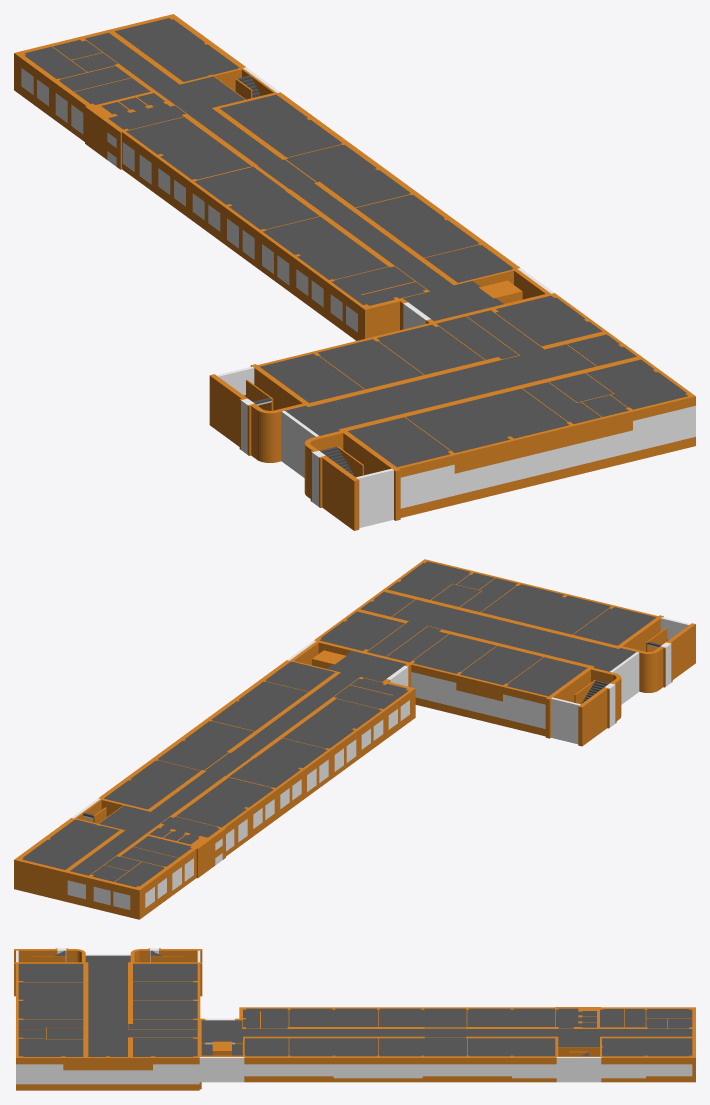
3 views of the same model, one above another, from view 1: azimuth 30°, elevation 25°; view 2: azimuth 150°, elevation 25°; view 3: azimuth 270°, elevation 25° (orthographic). The views are drawn at different scales.
Parts seen in each view (by area): view 1: 3.118, 2.2069, 2.1842, 0.146, 1.1177, 2.1845, 1.1180, 2.1844, 1.1165, 2.1782, 2.1718, 2.1831 (+8 smaller); view 2: 3.118, 2.2069, 2.1818, 2.1844, 0.146, 1.1179, 2.1843, 1.1211, 2.1842, 1.1163, 2.1831, 2.1722 (+4 smaller); view 3: 3.118, 2.2069, 1.1184, 1.1189, 1.1186, 1.1164, 0.146, 1.1191, 1.1185, 1.1187, 1.1188, 1.1192 (+37 smaller).
Part boxes in pixels (x1,y1,x2,y2): 3.118: (25, 18, 513, 305); 2.2069: (260, 295, 687, 467); 2.1842: (319, 455, 359, 530); 0.146: (403, 281, 503, 320); 1.1177: (633, 406, 692, 451); 2.1845: (247, 403, 287, 462); 1.1180: (356, 468, 393, 527); 2.1844: (209, 374, 247, 449); 1.1165: (400, 464, 454, 508); 2.1782: (358, 298, 407, 340); 2.1718: (338, 428, 400, 520); 2.1831: (85, 90, 171, 159); 3.118: (22, 662, 408, 887); 2.2069: (319, 561, 656, 696); 2.1818: (14, 857, 69, 902); 2.1844: (578, 687, 609, 746); 0.146: (327, 650, 406, 681); 1.1179: (551, 697, 580, 744); 2.1843: (634, 646, 665, 692); 1.1211: (411, 672, 456, 706); 2.1842: (666, 623, 695, 682); 1.1163: (503, 694, 545, 728); 2.1831: (145, 825, 215, 878); 2.1722: (545, 666, 594, 738); 3.118: (243, 1008, 692, 1056); 2.2069: (18, 955, 197, 1056); 1.1184: (556, 1057, 601, 1082); 1.1189: (199, 1057, 244, 1082); 1.1186: (16, 1064, 63, 1084); 1.1164: (153, 1064, 199, 1084); 0.146: (201, 1020, 242, 1042); 1.1191: (333, 1064, 378, 1078); 1.1185: (601, 1064, 645, 1078); 1.1187: (63, 1070, 107, 1084); 1.1188: (108, 1070, 152, 1084); 1.1192: (378, 1064, 422, 1078).
Size of the model in its own units: 34.86 by 91.62 by 4.96.
